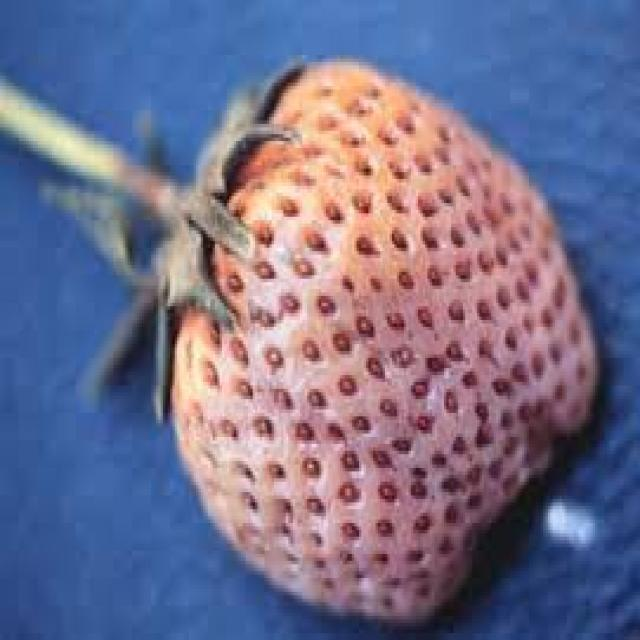Podredumbre de cuero: (158, 72, 608, 620)
